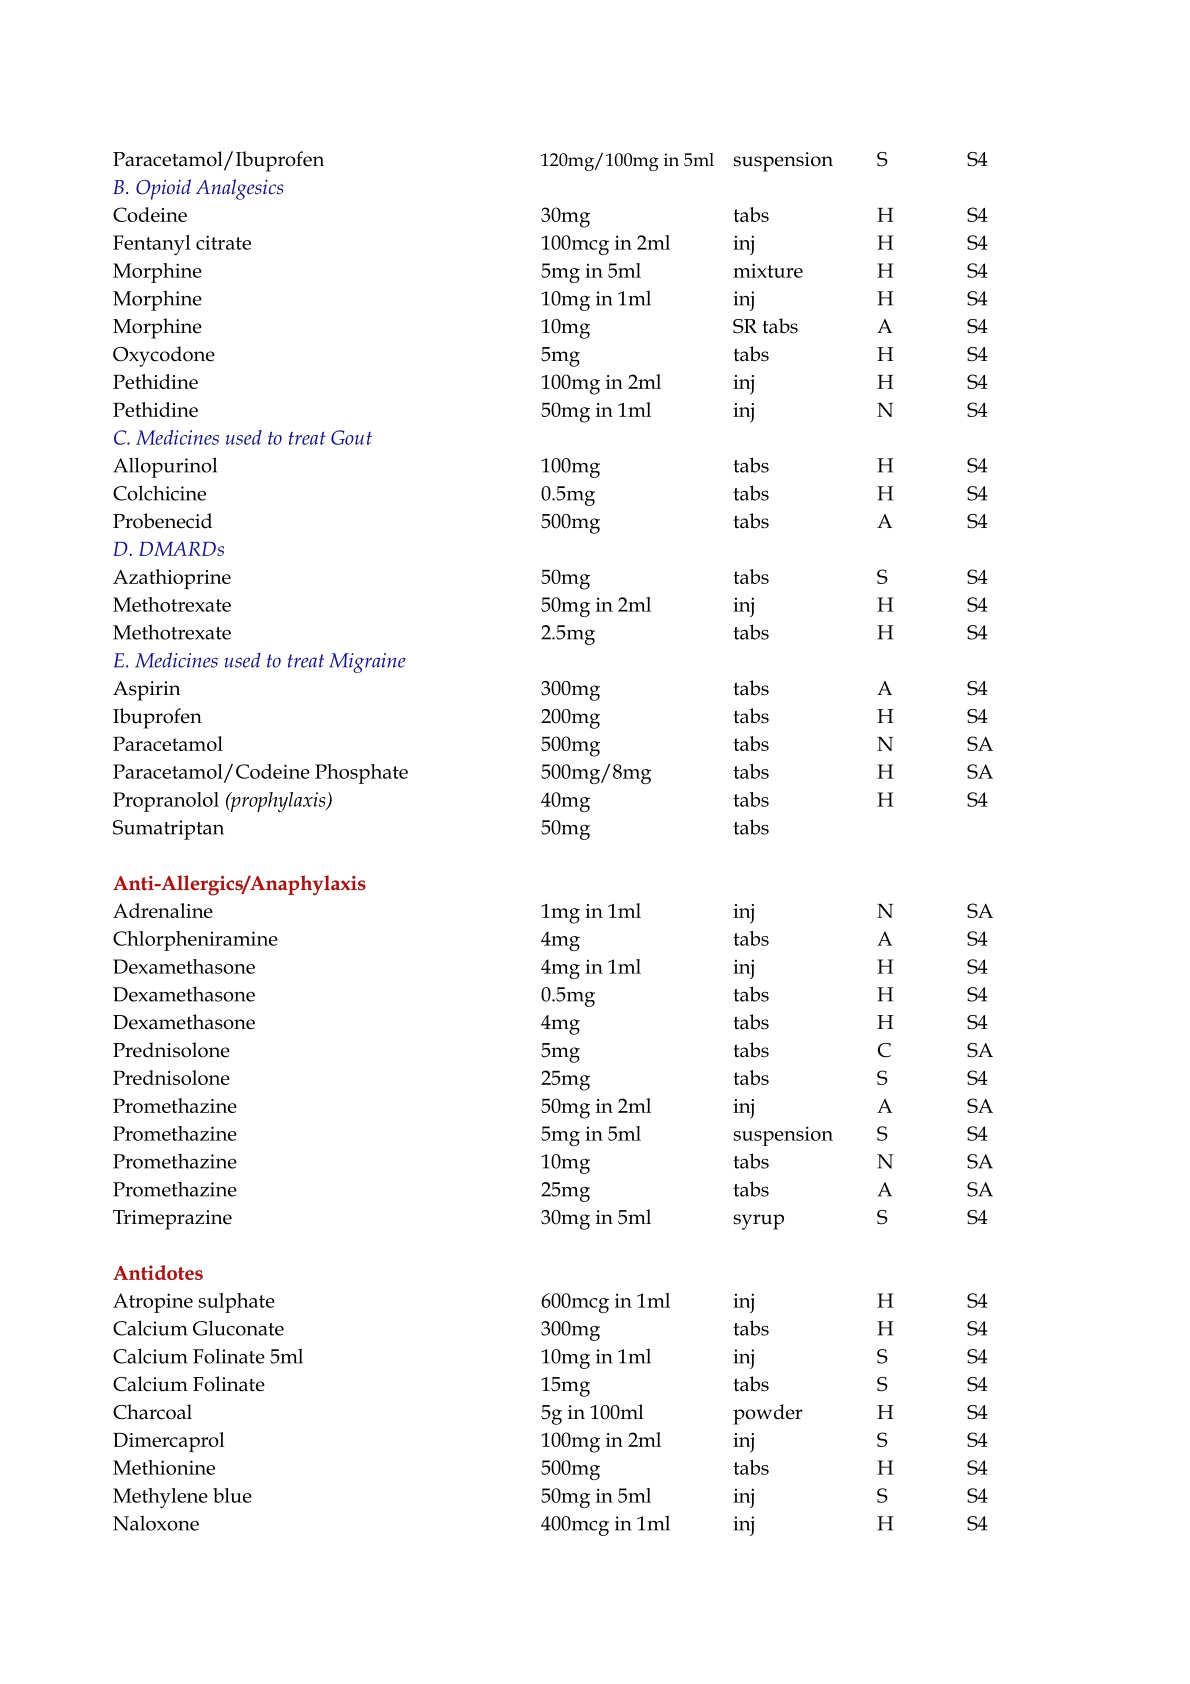nolines: (111, 148, 996, 1533)
